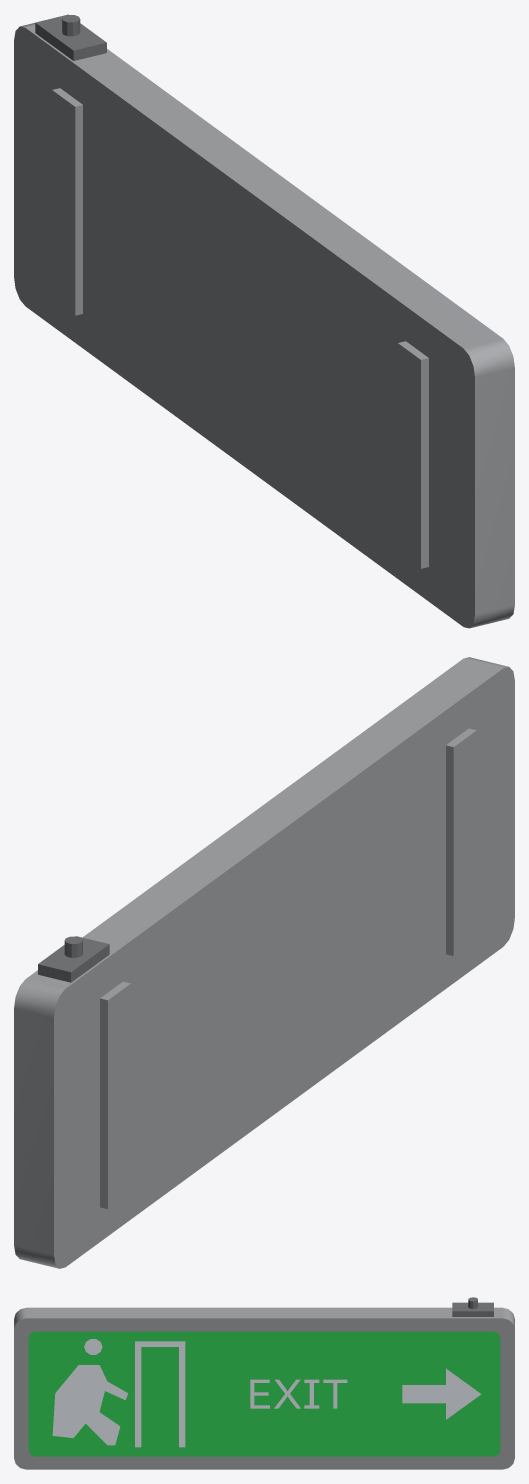
Rendered from exit_sign_36.glb.
3 renders of one model, top to bottom at view 1: azimuth 30°, elevation 25°; view 2: azimuth 150°, elevation 25°; view 3: azimuth 270°, elevation 25°, orthographic. The views are drawn at different scales.
Parts seen in each view (by area): view 1: exit_0, exit_4; view 2: exit_0, exit_4; view 3: exit_2, exit_0, exit_3, exit, exit_4.
Part boxes in pixels (bbox=[...]): exit_0: bbox=[14, 23, 514, 628]; exit_4: bbox=[35, 14, 106, 60]; exit_0: bbox=[14, 657, 514, 1268]; exit_4: bbox=[38, 936, 109, 982]; exit_2: bbox=[28, 1331, 500, 1456]; exit_0: bbox=[14, 1307, 514, 1469]; exit_3: bbox=[52, 1339, 481, 1447]; exit: bbox=[250, 1379, 347, 1408]; exit_4: bbox=[452, 1297, 493, 1316].
Size of the model in its own units: 0.0733 by 0.435 by 1.2.
